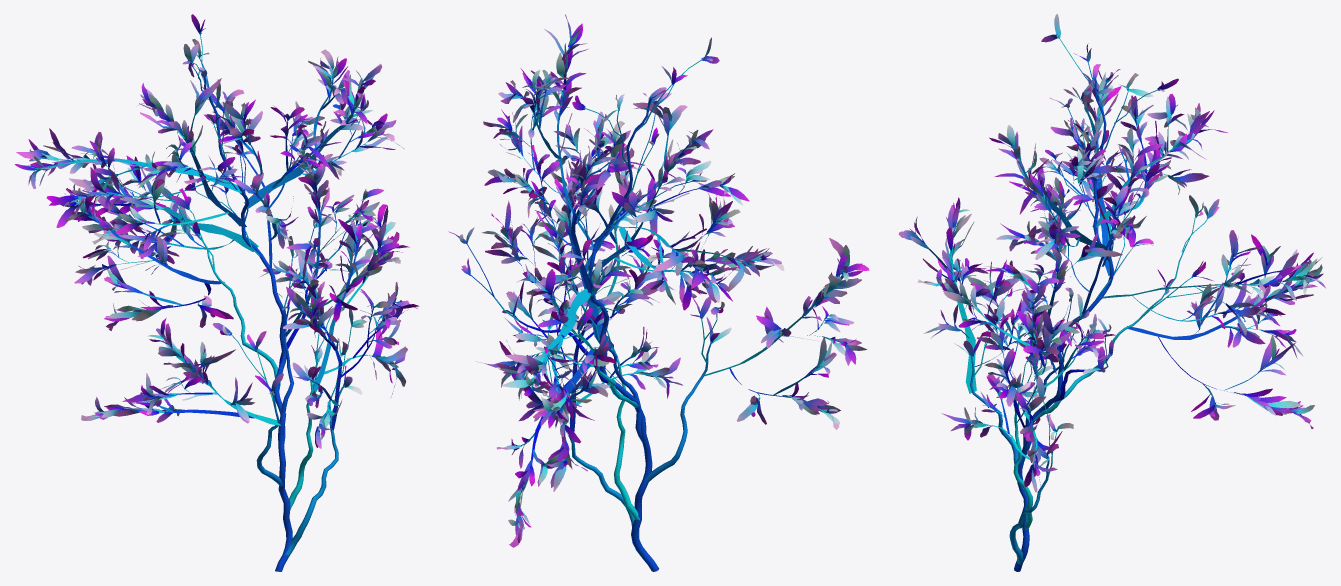
Rendered from Tola_VarH_LOD1.fbx.
3 views of the same model, side by side, from view 1: azimuth 30°, elevation 25°; view 2: azimuth 150°, elevation 25°; view 3: azimuth 270°, elevation 25° (orthographic). The views are drawn at different scales.
Parts seen in each view (by area): view 1: Cube.039; view 2: Cube.039; view 3: Cube.039.
Boxes of the visible parts, x1=… form: Cube.039: x1=14, y1=14, x2=418, y2=571; Cube.039: x1=448, y1=14, x2=869, y2=571; Cube.039: x1=898, y1=14, x2=1325, y2=571.
Bounding box in the file's own units: 1.36 × 2.07 × 1.54.
